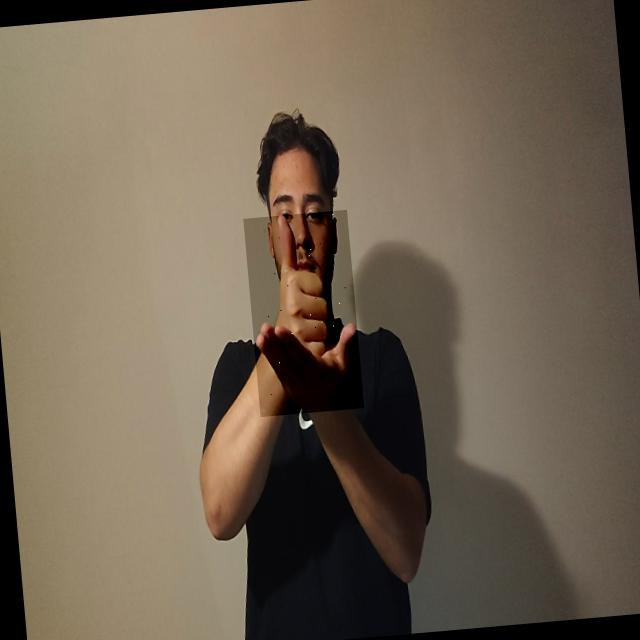help: (243, 210, 364, 416)
